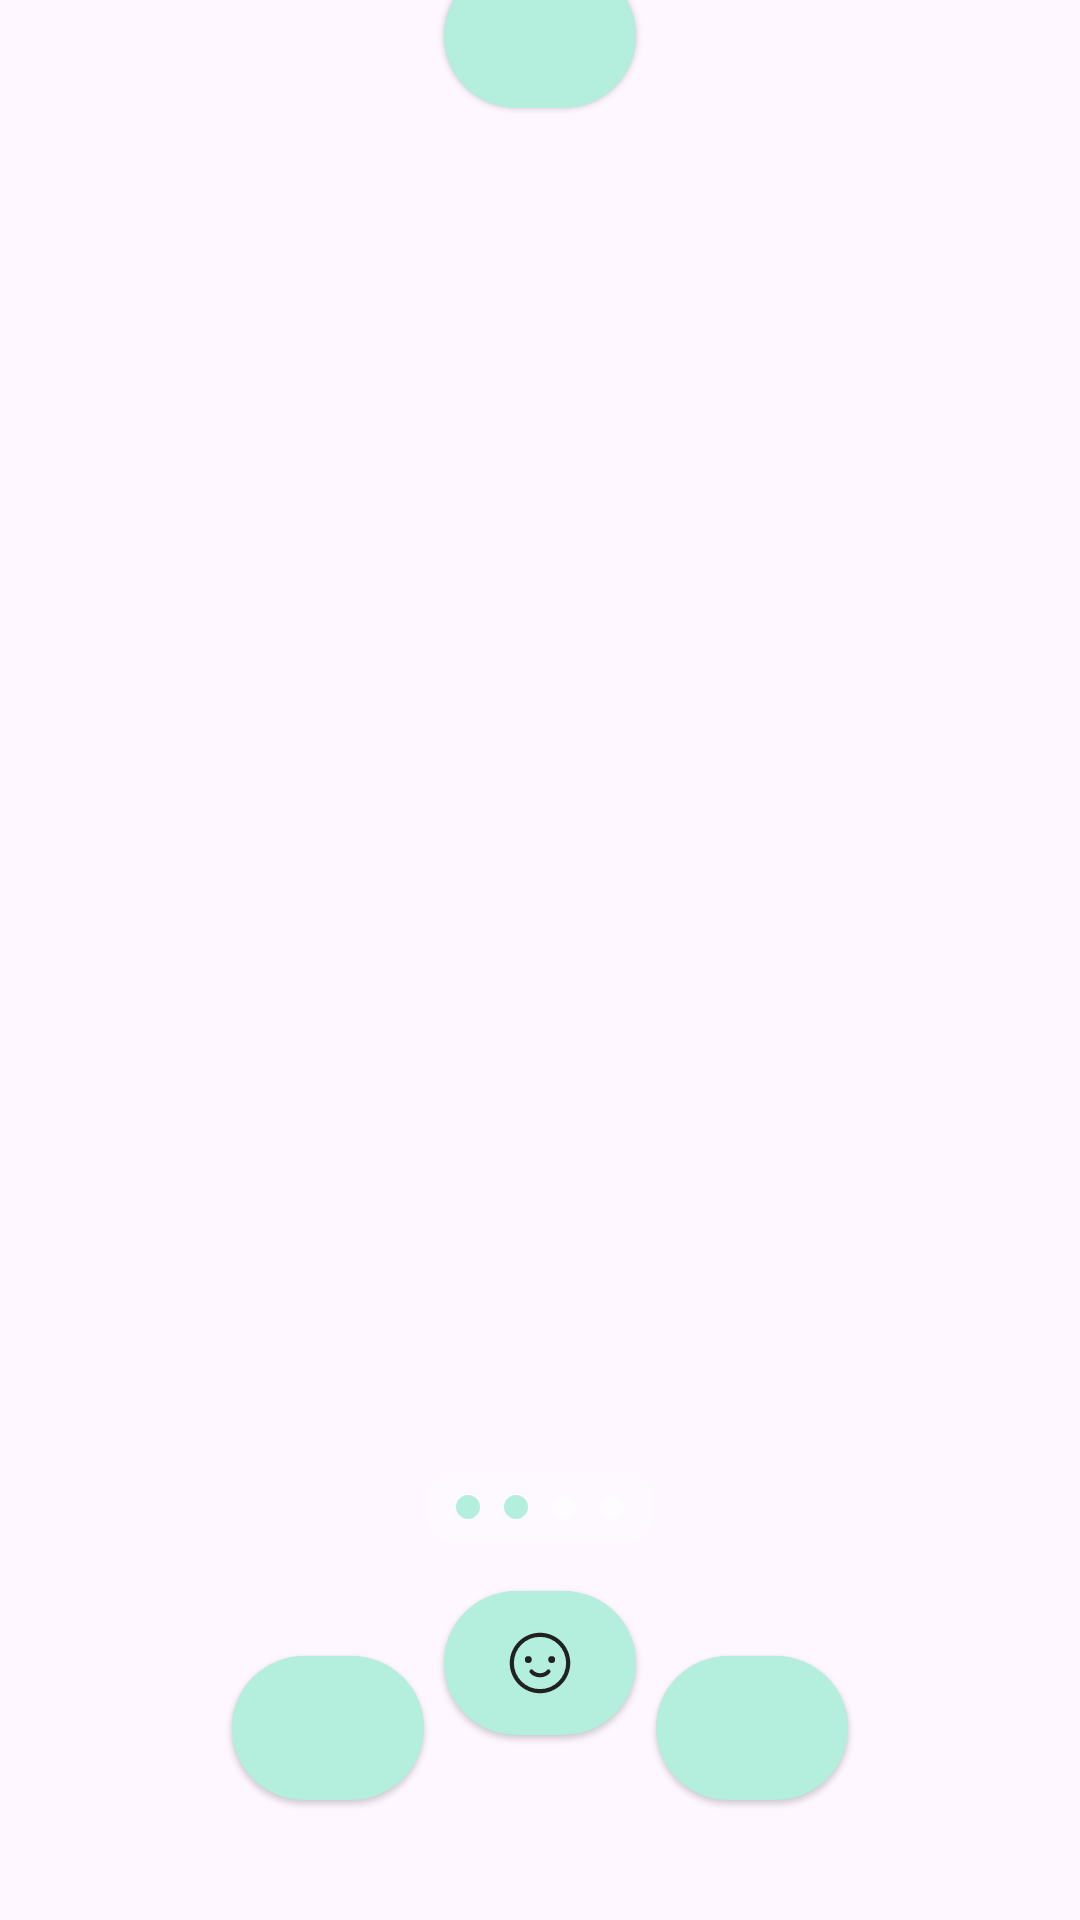

Icons on this 1080 × 1920 Android screen, each with its box as (x1, y1, x2, y2):
Character selection: (444, 1591, 636, 1739)
